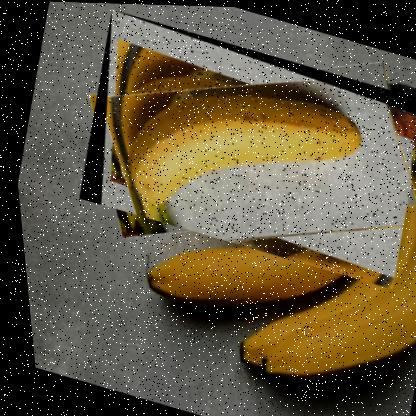banana: (60, 7, 415, 290)
